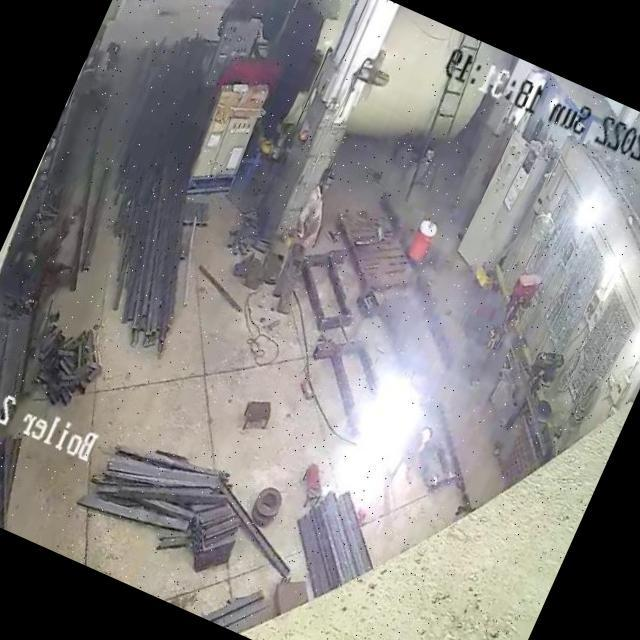person: (260, 164, 346, 318)
